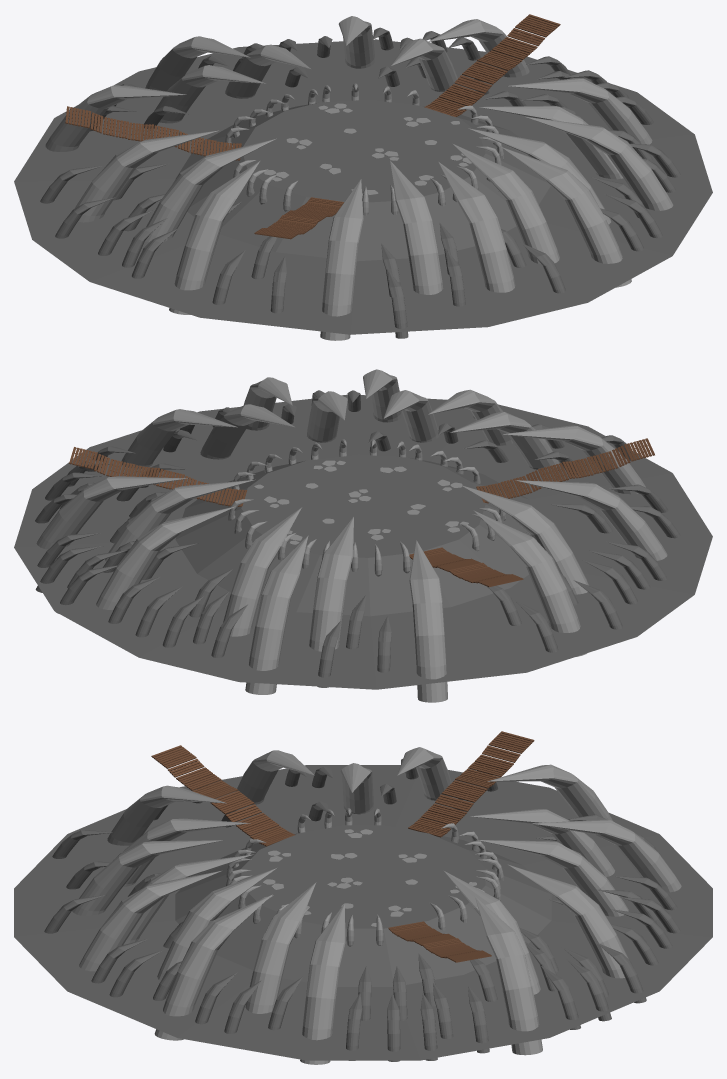
Rendered from ArenaVerTwo.fbx.
3 renders of one model, top to bottom at view 1: azimuth 30°, elevation 25°; view 2: azimuth 150°, elevation 25°; view 3: azimuth 270°, elevation 25°, orthographic.
Visible parts, largest first — view 1: Plane; view 2: Plane; view 3: Plane.
Part boxes in pixels (box(x1,y1,x2,y2)): Plane: box(14, 14, 712, 340); Plane: box(14, 369, 712, 702); Plane: box(14, 731, 712, 1064).
Size of the model in its own units: 572 by 89.96 by 572.
